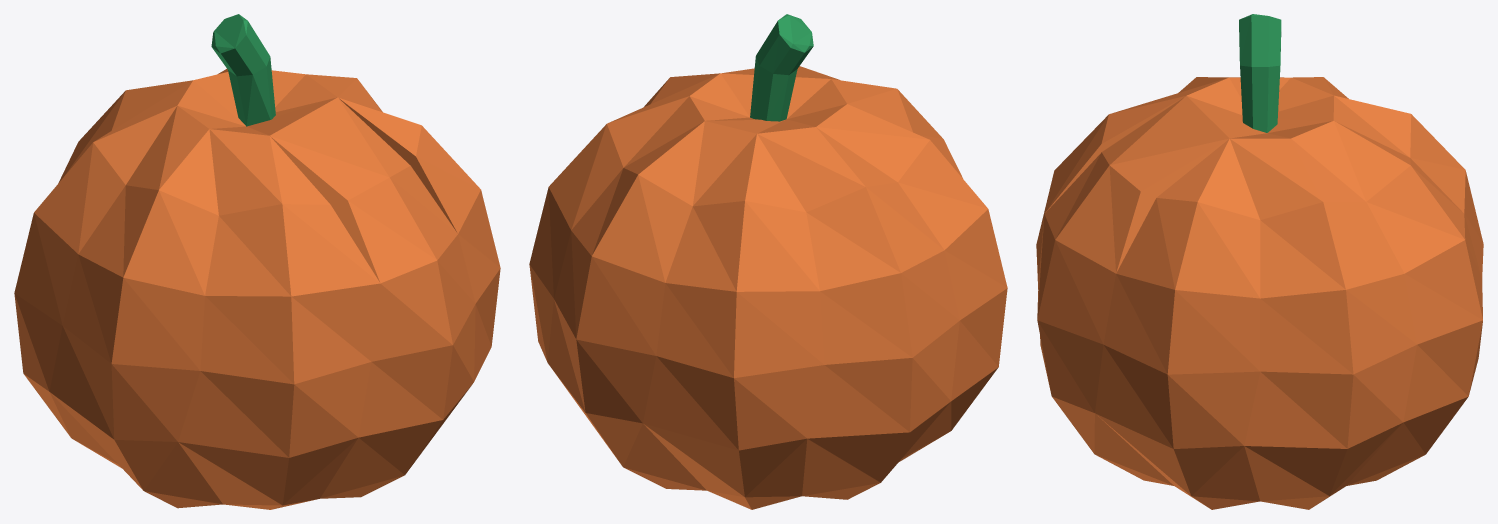
Rendered from calabaza.glb.
3 renders of one model, left to right at view 1: azimuth 30°, elevation 25°; view 2: azimuth 150°, elevation 25°; view 3: azimuth 270°, elevation 25°, orthographic. The views are drawn at different scales.
Visible parts, largest first — view 1: Sphere; view 2: Sphere; view 3: Sphere.
Boxes of the visible parts, bbox=[...] form: Sphere: bbox=[14, 14, 500, 509]; Sphere: bbox=[529, 14, 1007, 509]; Sphere: bbox=[1036, 14, 1483, 509].
Size of the model in its own units: 61.21 by 66.97 by 61.69.
